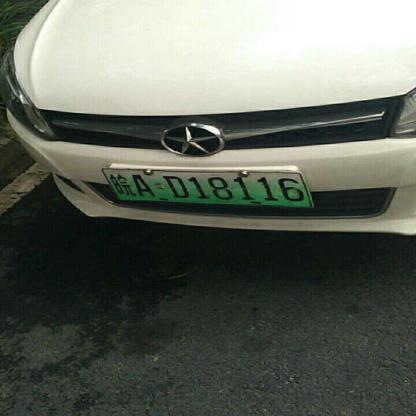lp: (102, 168, 313, 205)
